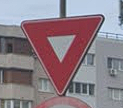cedeaza: (18, 16, 108, 96)
